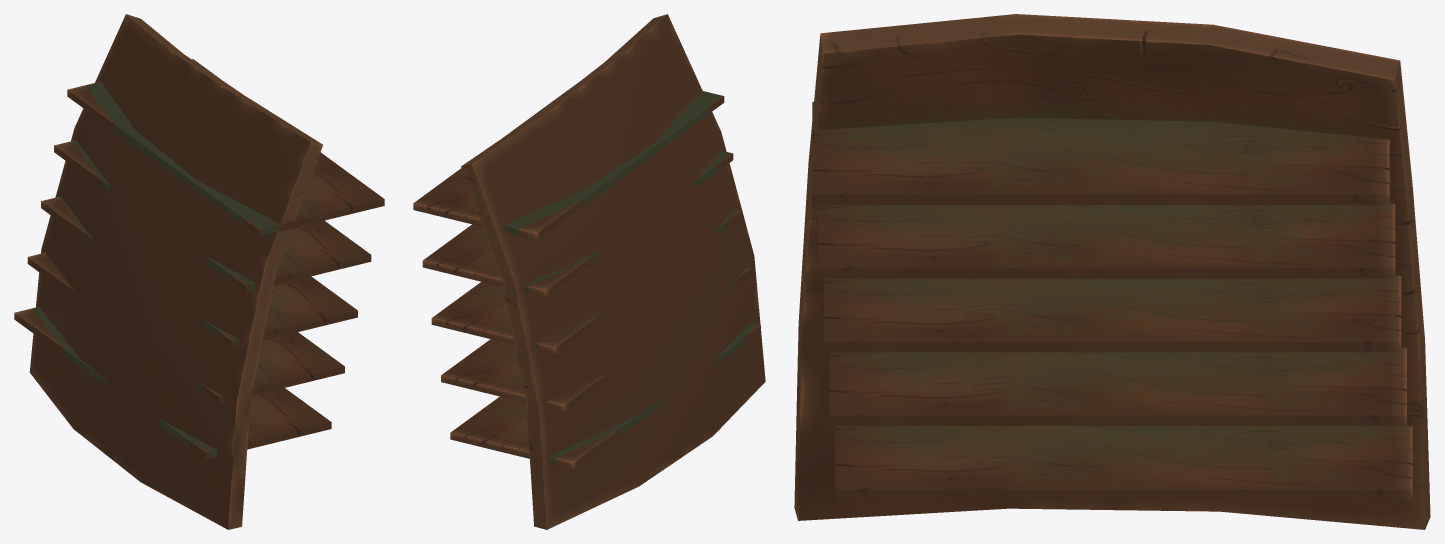
The model's file is Regal.glb.
3 renders of one model, left to right at view 1: azimuth 30°, elevation 25°; view 2: azimuth 150°, elevation 25°; view 3: azimuth 270°, elevation 25°, orthographic. The views are drawn at different scales.
Parts seen in each view (by area): view 1: Regal, Regalbretter; view 2: Regal, Regalbretter; view 3: Regalbretter, Regal.
Boxes of the visible parts, box(x1,y1,x2,y2) form: Regal: box(29, 14, 322, 529); Regalbretter: box(14, 59, 384, 459); Regal: box(461, 14, 765, 529); Regalbretter: box(413, 84, 760, 469); Regalbretter: box(812, 102, 1412, 499); Regal: box(794, 14, 1430, 529).
Bounding box in the file's own units: 0.9505 × 1.86 × 1.94.
2 materials, 2 textured.
